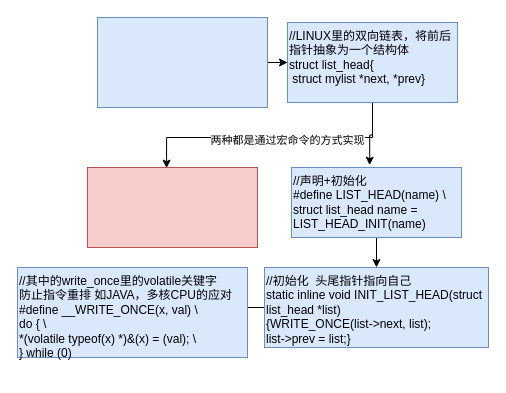
Image size: 506x393. Some labels were removed from this diagram. The centre of each missing label's shape, as x and y in pixels:
//一般的双向链表 struct my_list{ viod *data; struct mylist *next; struct mylist *prev}: the point at 182,62
//只是声明 #define LIST_HEAD_INIT(name) { &(name), &(name) }: the point at 172,207
